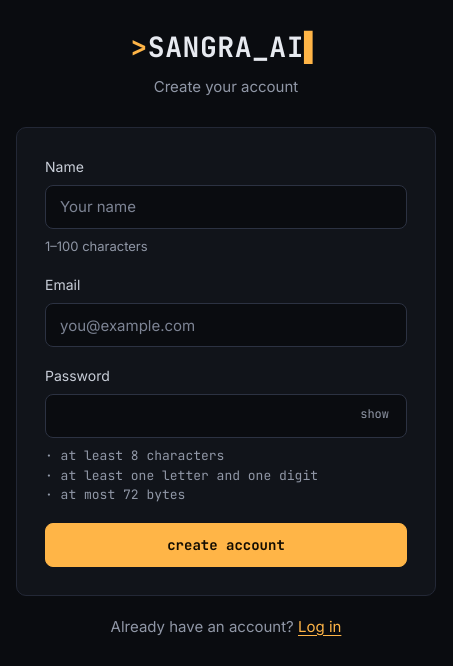
register › FE2-F10 / U02: {"password":"Short1"} is refused before sending, focus on the field
The width and height of the screenshot is (453, 666).
Type "Sangram" into the field labelled "Name". click: (226,206)
box: [45,184,407,228]
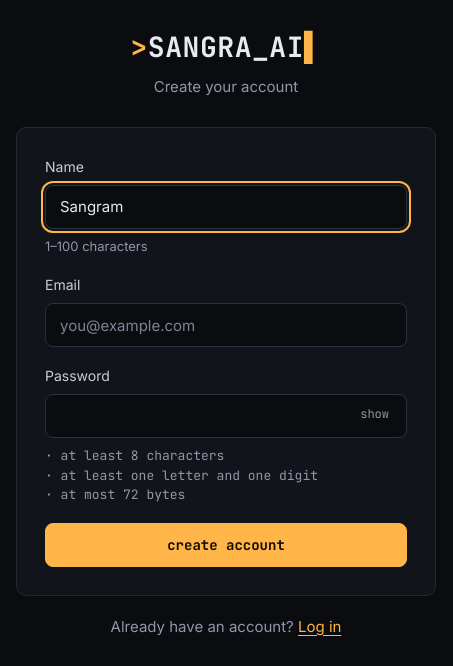
Type "sangram@example.com" into the field labelled "Email". click: (226,325)
box: [45,303,407,347]
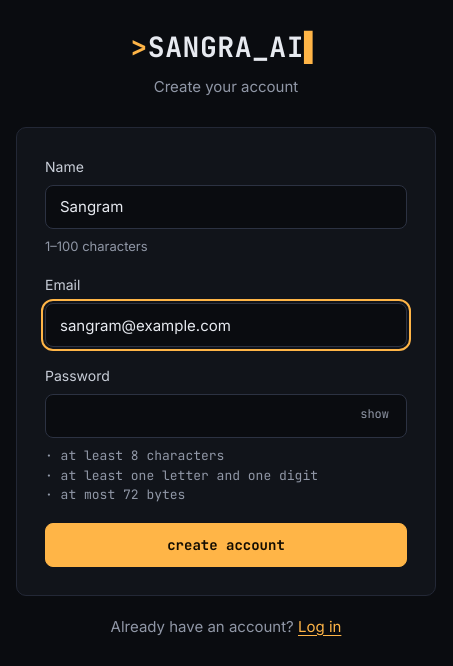
Type "Short1" into the password field labelled "Password". click: (226,416)
box: [45,394,407,438]
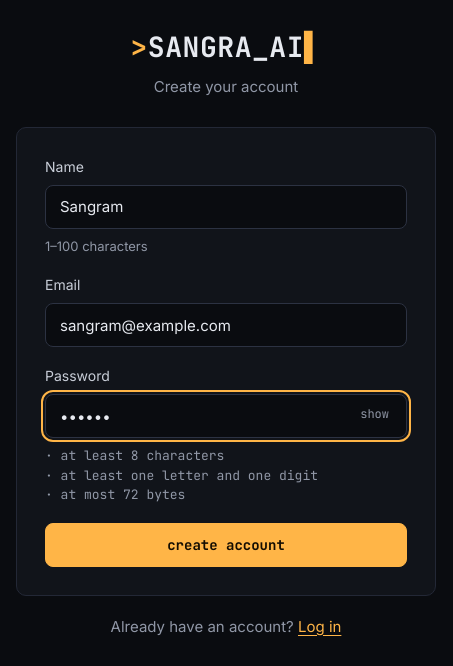
Click the button "create account". click: (226,544)
box: [45,522,407,566]
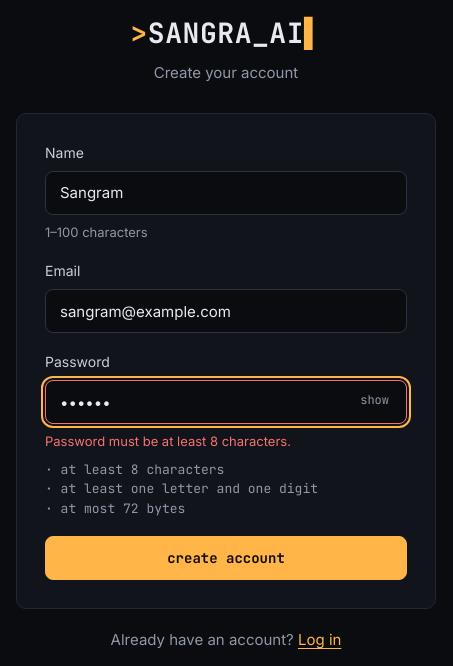
expect the text "Password must be at least 8 characters." is shown: met, box [45,433,291,449]
